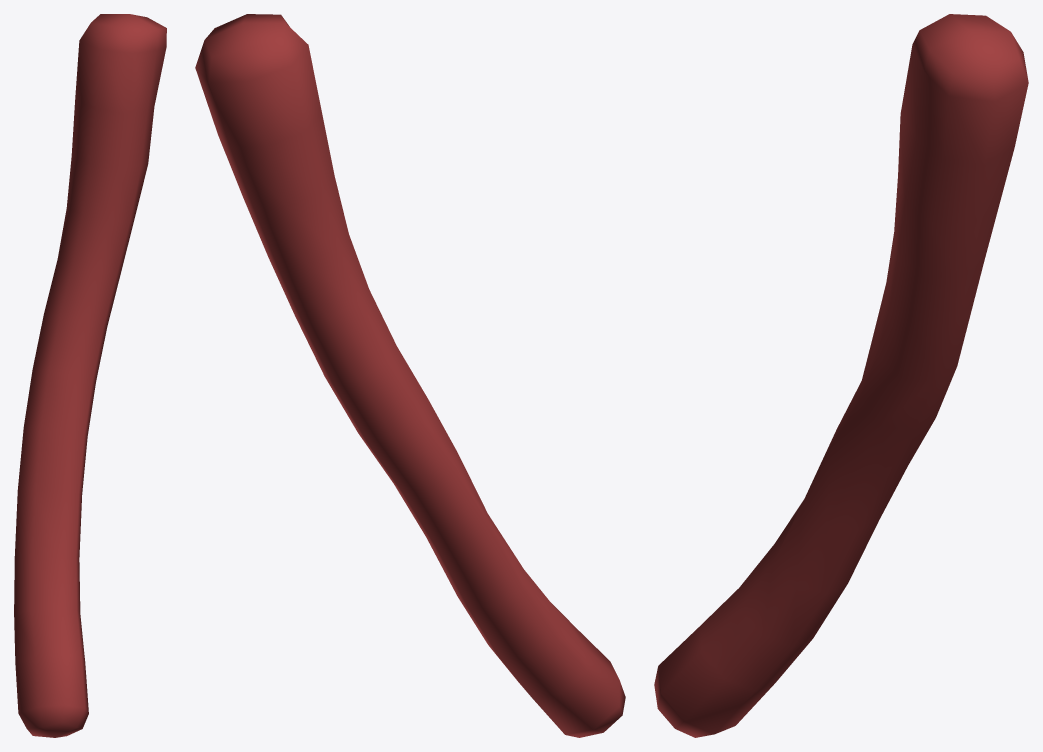
File: tendon-sheath-of-tibialis-anterior-l.glb
The picture shows the model from 3 angles, left to right: view 1: azimuth 30°, elevation 25°; view 2: azimuth 150°, elevation 25°; view 3: azimuth 270°, elevation 25°; orthographic projection. The views are drawn at different scales.
Visible parts, largest first — view 1: Tendon sheath of tibialis anterior.l; view 2: Tendon sheath of tibialis anterior.l; view 3: Tendon sheath of tibialis anterior.l.
Part boxes in pixels (box(x1,y1,x2,y2)): Tendon sheath of tibialis anterior.l: box(14, 14, 166, 737); Tendon sheath of tibialis anterior.l: box(195, 14, 625, 737); Tendon sheath of tibialis anterior.l: box(654, 14, 1028, 737).
Bounding box in the file's own units: 0.0301 × 0.0731 × 0.0303.
